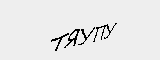П: (91, 22, 105, 43)
Т: (49, 29, 69, 53)
У: (76, 25, 95, 45), (103, 19, 119, 42)
Я: (64, 27, 80, 49)
